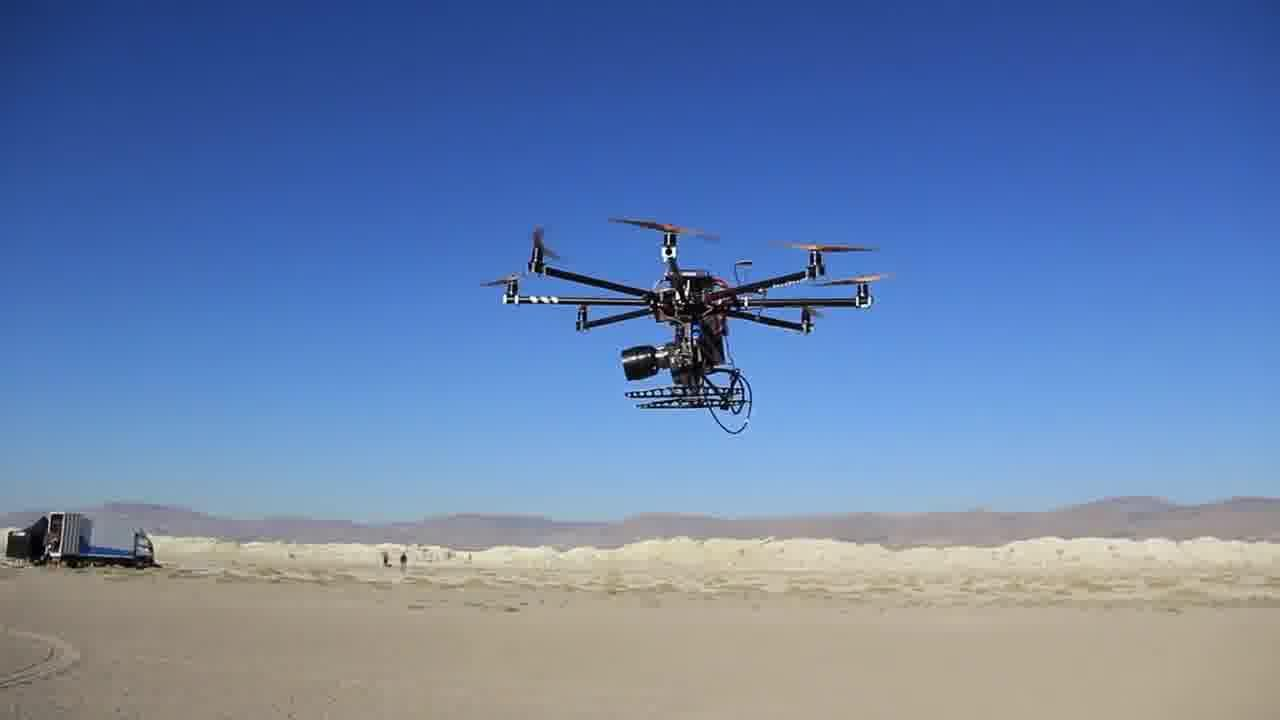drone: (484, 194, 849, 426)
